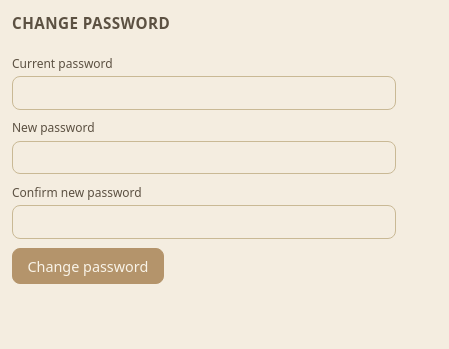
Test: ChangePasswordSection › changes the password, clears the form, and says other devices were signed out
Step 1. Type "old password here" into the password field labelled "Current password" → (204, 93), box [12,76,396,110]
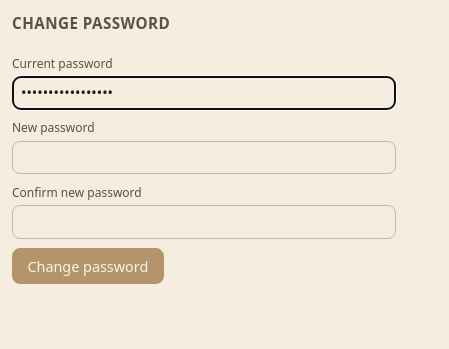
Step 2. Type "new password here" into the password field labelled "New password" → (204, 157), box [12,140,396,174]
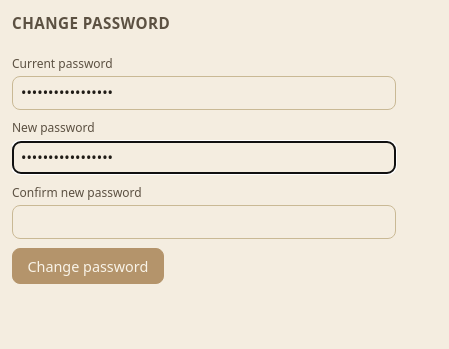
Step 3. Type "new password here" into the password field labelled "Confirm new password" → (204, 222), box [12,205,396,239]
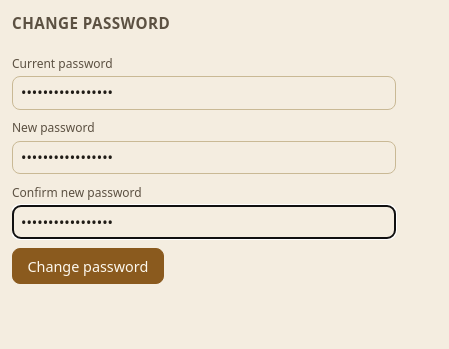
Step 4. Click the button "Change password" → (88, 266), box [12,248,164,284]
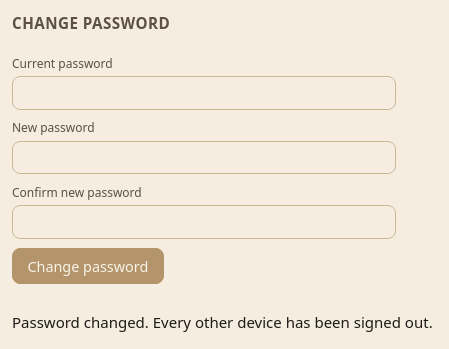
Check: the message shows "Every other device has been signed out", box [12,312,433,332]
Check: the password field labelled "Current password" is empty, box [12,76,396,110]
Check: the password field labelled "New password" is empty, box [12,140,396,174]
